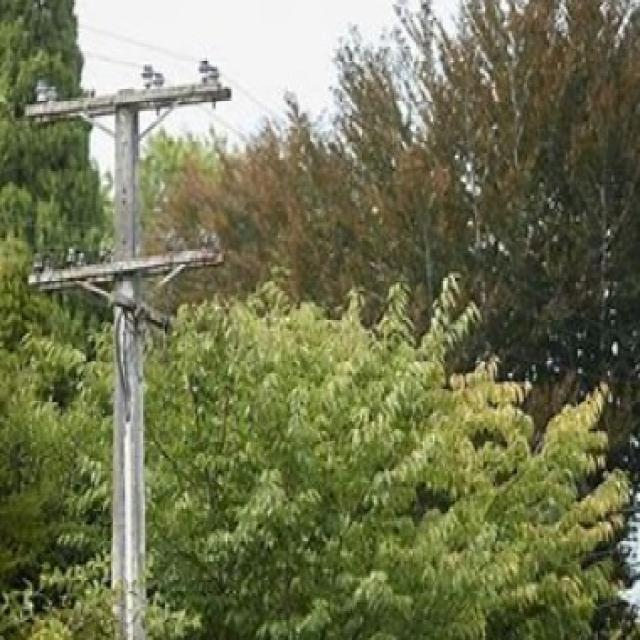utility poles: (23, 33, 249, 640)
